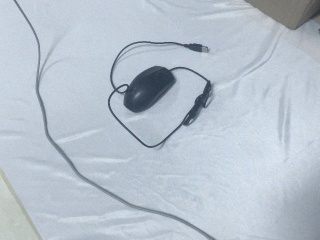box: (241, 1, 320, 30)
mouse: (123, 63, 178, 115)
